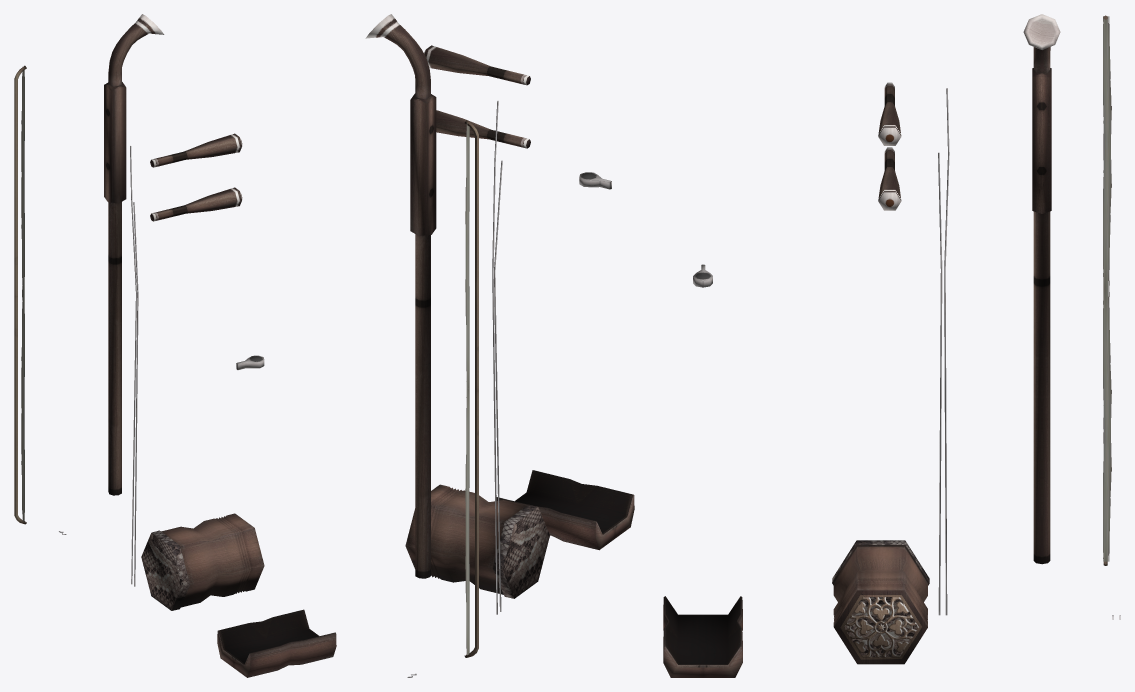
The picture shows the model from 3 angles, left to right: view 1: azimuth 30°, elevation 25°; view 2: azimuth 150°, elevation 25°; view 3: azimuth 270°, elevation 25°; orthographic projection. The views are drawn at different scales.
Visible parts, largest first — view 1: 对象005, 对象001, 对象006, erhu, 对象003, 对象002; view 2: 对象001, 对象005, 对象006, erhu, 对象003, 对象002, 对象004; view 3: 对象001, 对象005, 对象006, erhu, 对象002, 对象003.
Boxes of the visible parts, x1,y1,x2,y2 form: 对象005: (141, 513, 264, 610); 对象001: (104, 14, 164, 495); 对象006: (217, 609, 336, 677); erhu: (14, 65, 66, 534); 对象003: (150, 133, 242, 221); 对象002: (130, 146, 138, 586); 对象001: (365, 14, 436, 578); 对象005: (405, 484, 549, 598); 对象006: (496, 470, 634, 550); erhu: (407, 120, 478, 677); 对象003: (424, 45, 530, 148); 对象002: (492, 101, 502, 614); 对象004: (579, 172, 611, 189); 对象001: (1023, 14, 1060, 564); 对象005: (832, 540, 929, 664); 对象006: (663, 596, 742, 677); erhu: (1103, 15, 1120, 619); 对象002: (938, 88, 949, 615); 对象003: (878, 82, 901, 210).
Bounding box in the file's own units: 10.73 × 39.97 × 25.72.
Materials: 1 (1 with a texture image).
